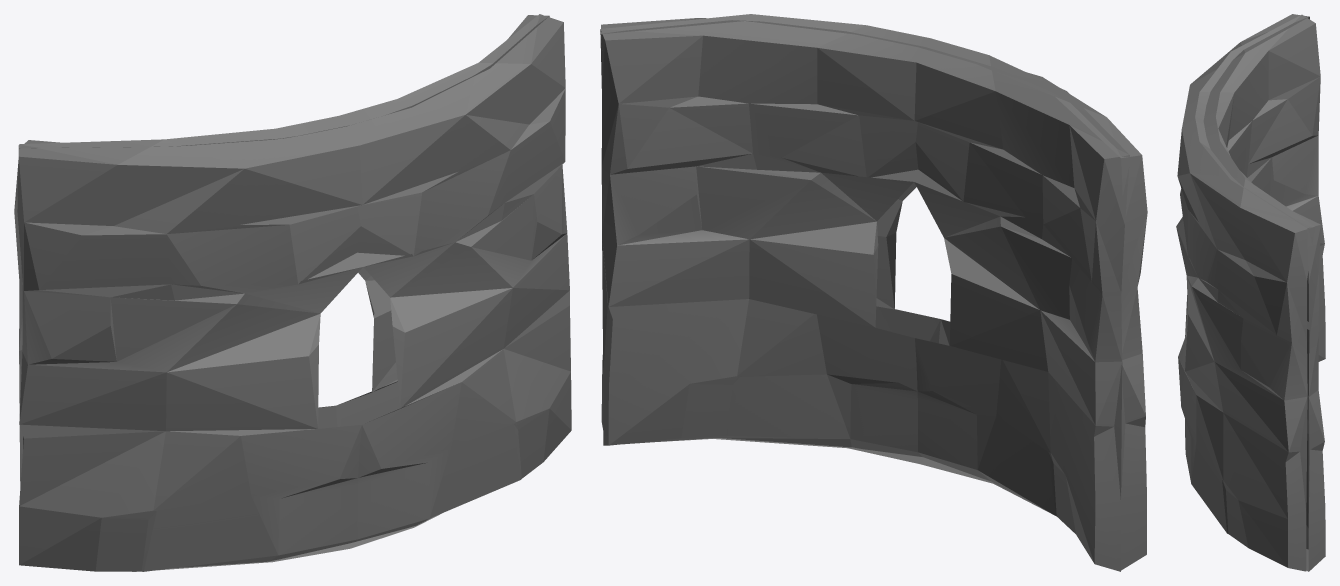
The model's file is stone round wall v2 small window.fbx.
3 views of the same model, side by side, from view 1: azimuth 30°, elevation 25°; view 2: azimuth 150°, elevation 25°; view 3: azimuth 270°, elevation 25° (orthographic). The views are drawn at different scales.
Visible parts, largest first — view 1: stone_round_wall_v004; view 2: stone_round_wall_v004; view 3: stone_round_wall_v004.
Part boxes in pixels (box(x1,y1,x2,y2)): stone_round_wall_v004: box(14, 14, 571, 571); stone_round_wall_v004: box(600, 14, 1147, 571); stone_round_wall_v004: box(1176, 14, 1325, 571).
Bounding box in the file's own units: 284 × 210 × 81.15.
1 material, 1 textured.
